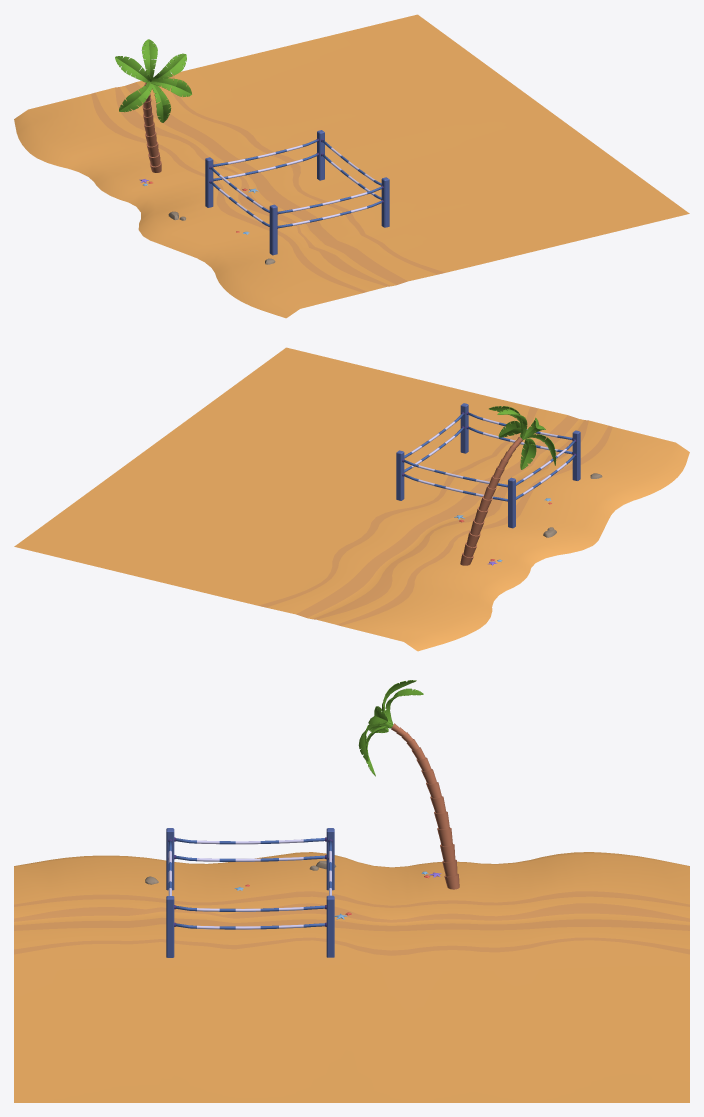
File: beach.fbx
The picture shows the model from 3 angles, top to bottom: view 1: azimuth 30°, elevation 25°; view 2: azimuth 150°, elevation 25°; view 3: azimuth 270°, elevation 25°; orthographic projection. The views are drawn at different scales.
Visible parts, largest first — view 1: Plane.001, Cylinder.036, Plane.089, Plane.088, Plane.091; view 2: Plane.001, Cylinder.036; view 3: Plane.001, Cylinder.036.
Boxes of the visible parts, <box> form: Plane.001: <box>14,14,689,318</box>; Cylinder.036: <box>142,82,161,172</box>; Plane.089: <box>115,56,151,83</box>; Plane.088: <box>119,81,152,112</box>; Plane.091: <box>150,78,191,96</box>; Plane.001: <box>14,347,689,651</box>; Cylinder.036: <box>460,437,522,565</box>; Plane.001: <box>14,852,689,1102</box>; Cylinder.036: <box>391,723,459,889</box>.
Size of what is drawn, in the model's own units: 7.37 by 2.51 by 8.15.
